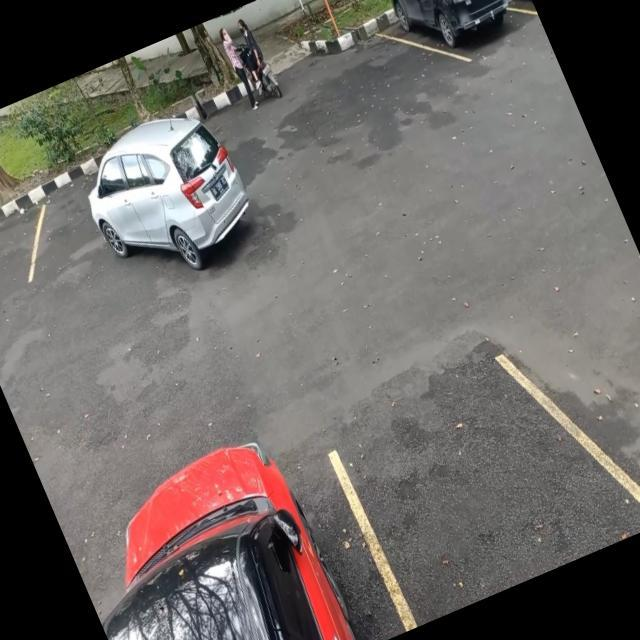empty: (320, 328, 626, 630), (0, 185, 62, 307)
occupied: (373, 0, 530, 77)
